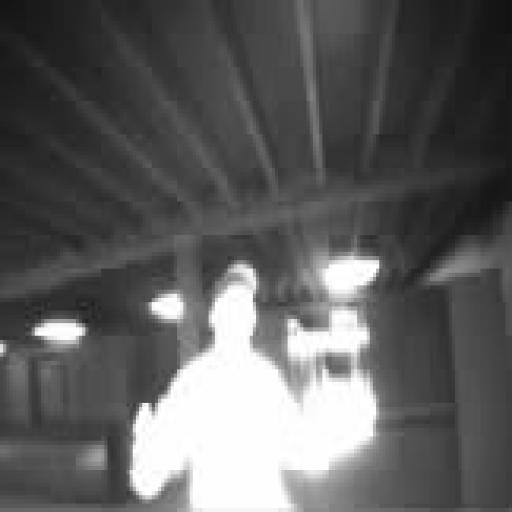human: (130, 261, 322, 511)
